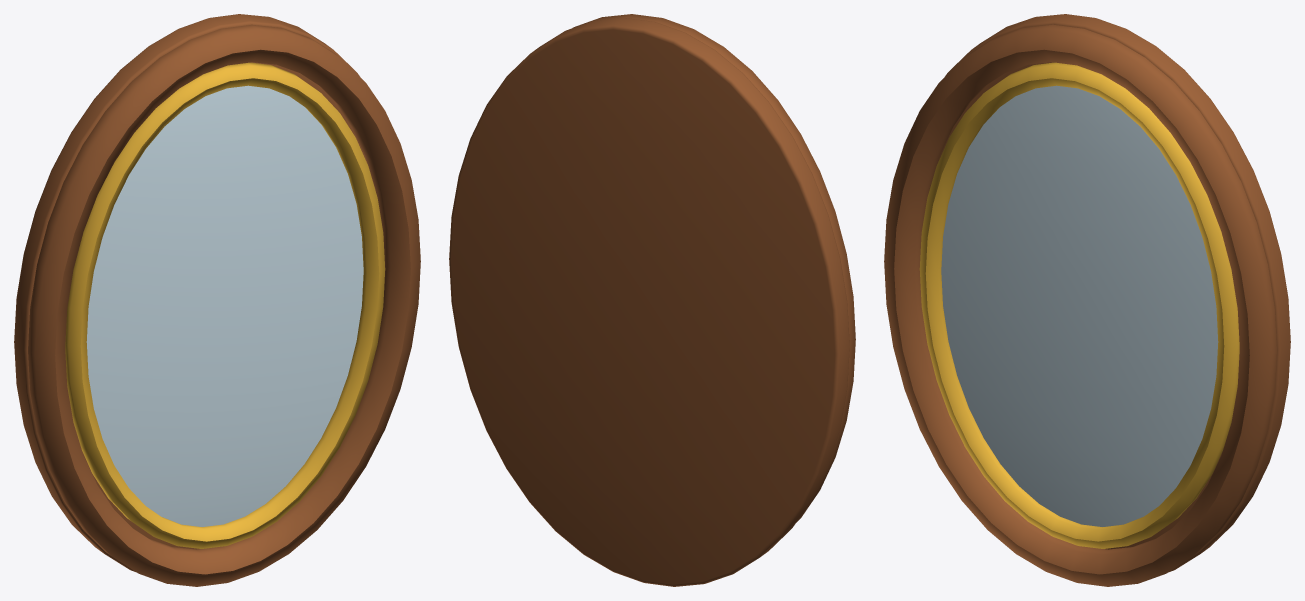
The model's file is espelho_parede_oval.glb.
The picture shows the model from 3 angles, left to right: view 1: azimuth 30°, elevation 25°; view 2: azimuth 150°, elevation 25°; view 3: azimuth 330°, elevation 25°; orthographic projection.
Visible parts, largest first — view 1: espelho_parede_oval; view 2: espelho_parede_oval; view 3: espelho_parede_oval.
Boxes of the visible parts, bbox=[...] form: espelho_parede_oval: bbox=[14, 14, 420, 586]; espelho_parede_oval: bbox=[449, 14, 855, 586]; espelho_parede_oval: bbox=[884, 14, 1290, 586].
Size of the model in its own units: 0.45 by 0.61 by 0.05.
2 materials, 1 textured.
